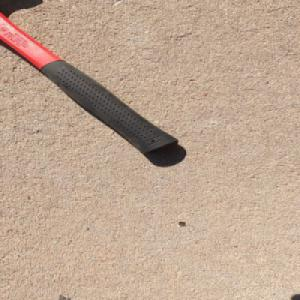Hammer: (0, 0, 182, 156)
